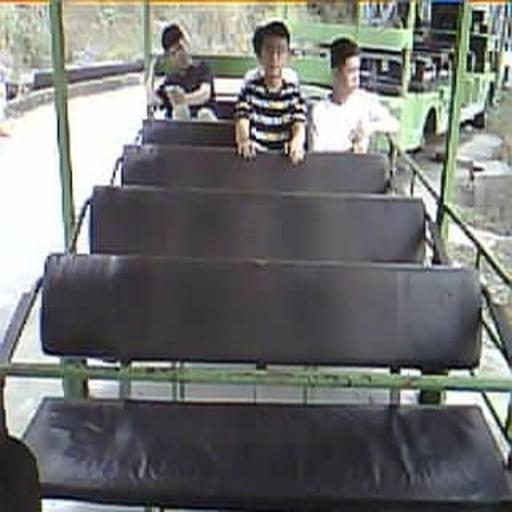persona: (233, 20, 309, 166), (307, 36, 400, 155), (148, 22, 218, 121), (242, 26, 300, 92)
